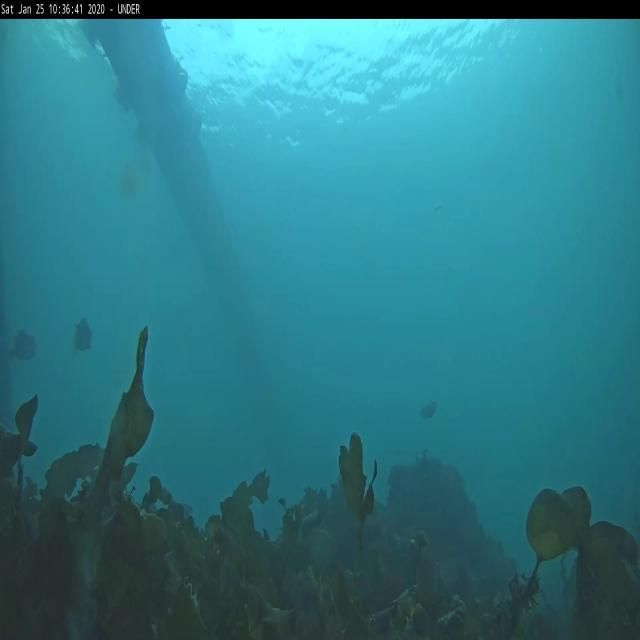fish: (5, 327, 42, 362), (71, 319, 94, 350), (418, 402, 438, 419)
